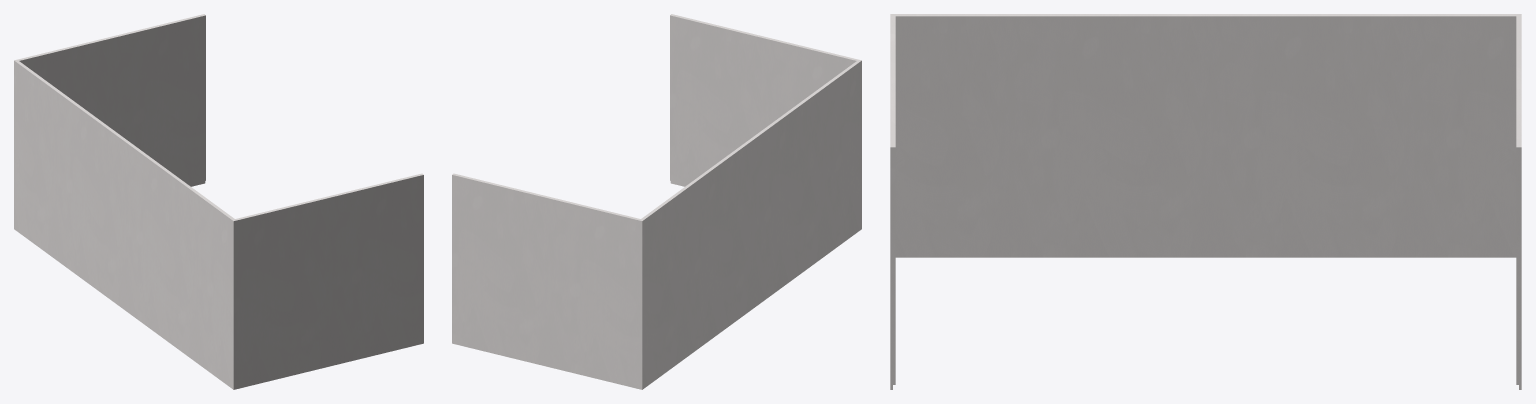
The model's file is Paredes_Stand1.obj.
3 renders of one model, left to right at view 1: azimuth 30°, elevation 25°; view 2: azimuth 150°, elevation 25°; view 3: azimuth 270°, elevation 25°, orthographic. The views are drawn at different scales.
Parts seen in each view (by area): view 1: Paredes_Stand1; view 2: Paredes_Stand1; view 3: Paredes_Stand1.
Boxes of the visible parts, bbox=[...] form: Paredes_Stand1: bbox=[14, 14, 423, 389]; Paredes_Stand1: bbox=[452, 14, 861, 389]; Paredes_Stand1: bbox=[890, 14, 1521, 389].
Size of the model in its own units: 2.88 by 2.44 by 5.76.
Materials: 1 (1 with a texture image).
